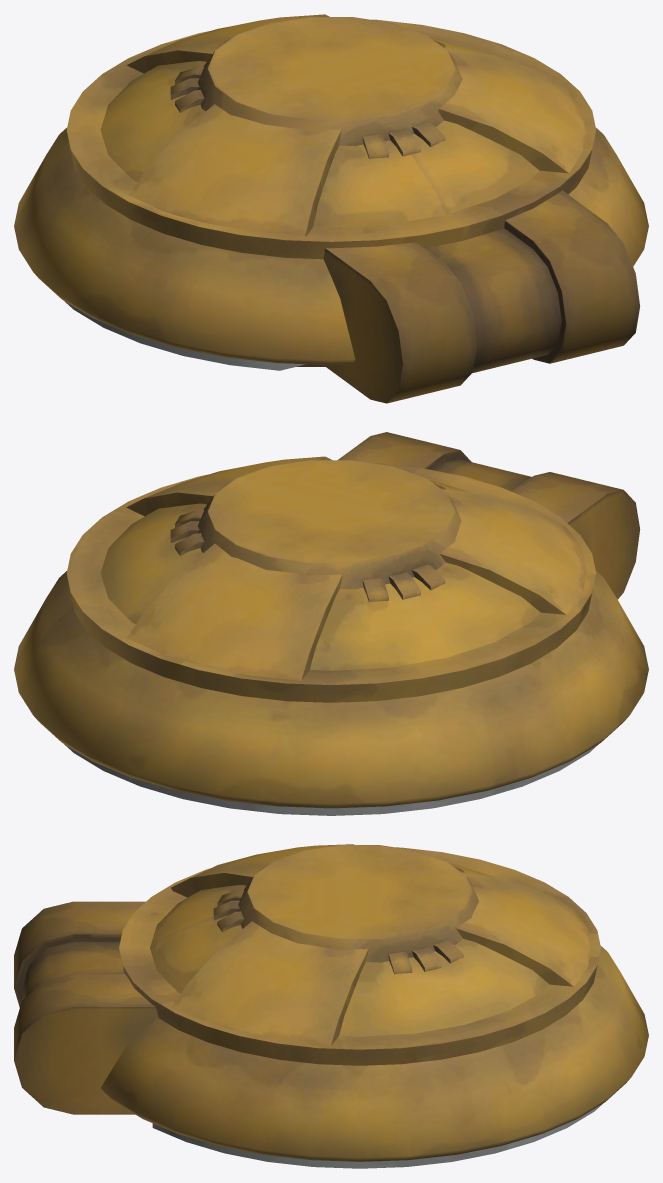
Rendered from Doomsday_HatchDoor.glb.
The picture shows the model from 3 angles, top to bottom: view 1: azimuth 30°, elevation 25°; view 2: azimuth 150°, elevation 25°; view 3: azimuth 270°, elevation 25°; orthographic projection. The views are drawn at different scales.
Parts seen in each view (by area): view 1: S_DoomsdayDevice_Hatch_Door_BP12.mo; view 2: S_DoomsdayDevice_Hatch_Door_BP12.mo; view 3: S_DoomsdayDevice_Hatch_Door_BP12.mo.
Part boxes in pixels (x1=…): S_DoomsdayDevice_Hatch_Door_BP12.mo: x1=14, y1=14, x2=648, y2=403; S_DoomsdayDevice_Hatch_Door_BP12.mo: x1=14, y1=432, x2=648, y2=815; S_DoomsdayDevice_Hatch_Door_BP12.mo: x1=14, y1=844, x2=648, y2=1168.
Bounding box in the file's own units: 2.13 × 0.7534 × 2.35.
1 material, 1 textured.
